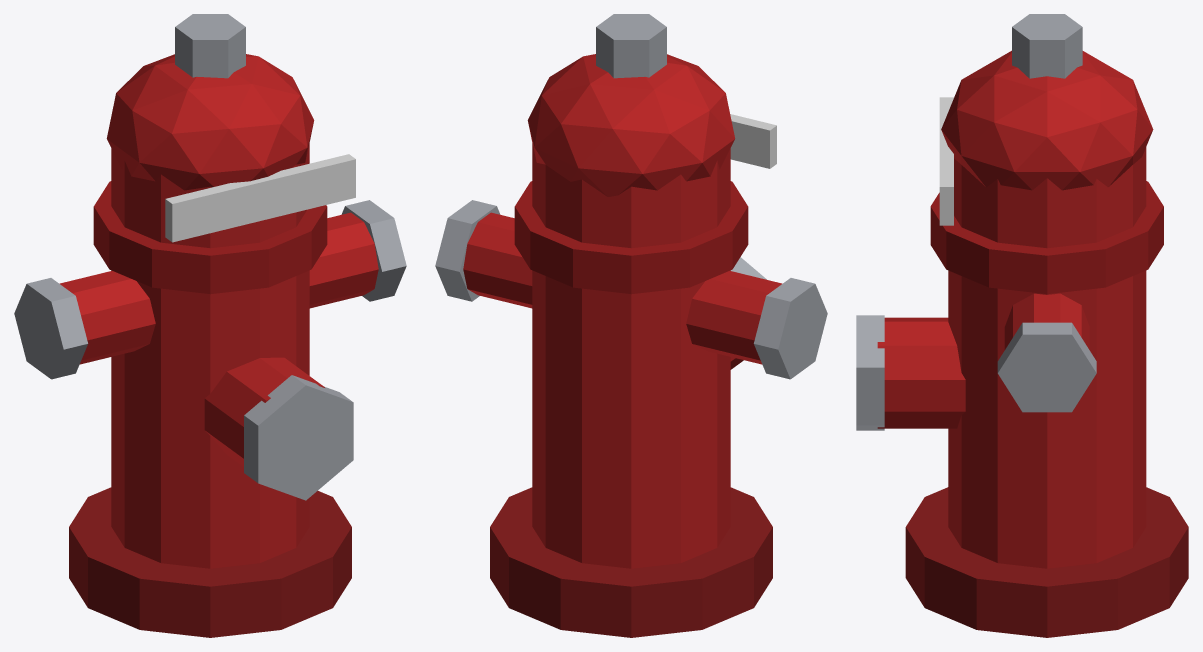
Rendered from hydrant.glb.
The picture shows the model from 3 angles, left to right: view 1: azimuth 30°, elevation 25°; view 2: azimuth 150°, elevation 25°; view 3: azimuth 270°, elevation 25°; orthographic projection.
Parts seen in each view (by area): view 1: gh_hydrant; view 2: gh_hydrant; view 3: gh_hydrant.
Boxes of the visible parts, bbox=[...] form: gh_hydrant: bbox=[14, 14, 406, 637]; gh_hydrant: bbox=[435, 14, 827, 637]; gh_hydrant: bbox=[856, 14, 1188, 637].
Size of the model in its own units: 0.56 by 0.86 by 0.47.
